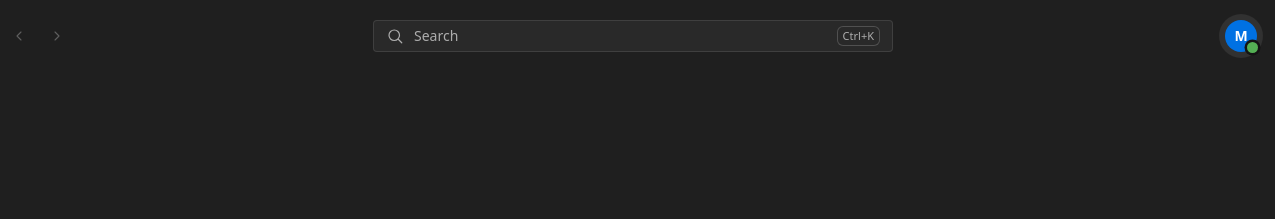
Scenario: drops the previous query's people as soon as the text changes
Type "bob" into the field labelled "Search" at (620, 36), box [414,26,827,46]
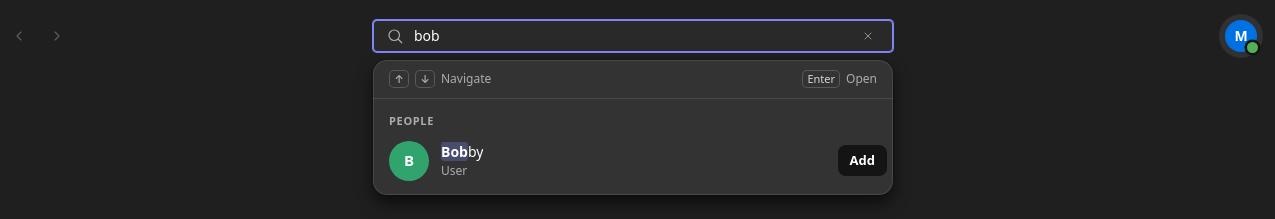
Now the text "by" is shown, box [468,142,483,161]
Replace the text in the field named "Search" with "bon" at (630, 36), box [414,26,846,46]
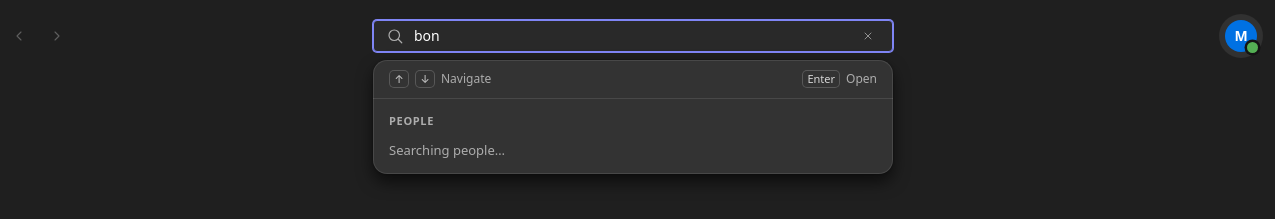
Now the button "Add" is gone
Now the text "Searching people…" is shown, box [389,141,505,159]
